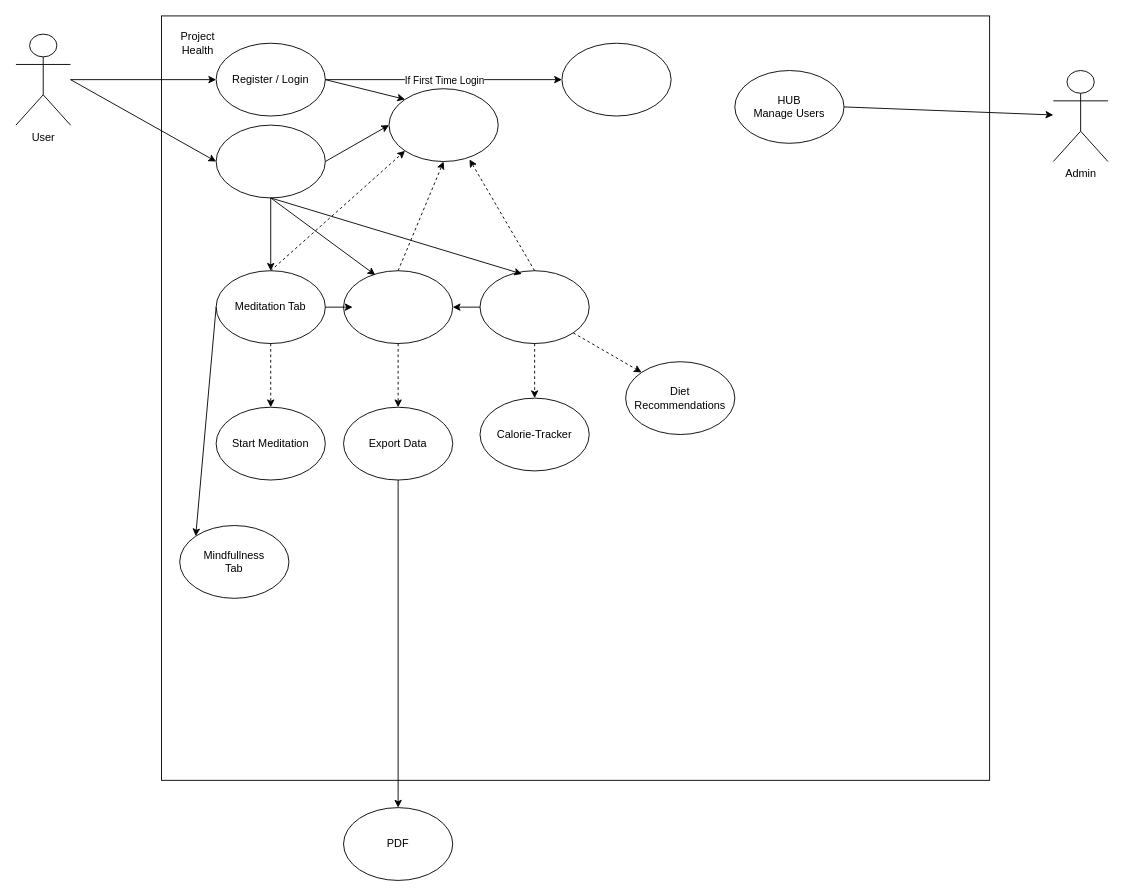
This 1124x896 diagram has some shape labels left out. The shapes that lost their labels are listed below. From the top down, each one's centre as x and y in pixels, then its label:
the point at 616,79: Tutorial
the point at 443,125: Overview Page
the point at 270,161: Browse Options
the point at 398,307: View / Export Data Tab
the point at 534,307: Diet Tab
